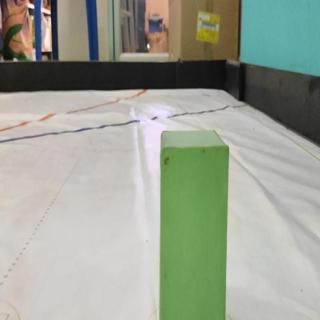greenbox: (159, 127, 229, 320)
